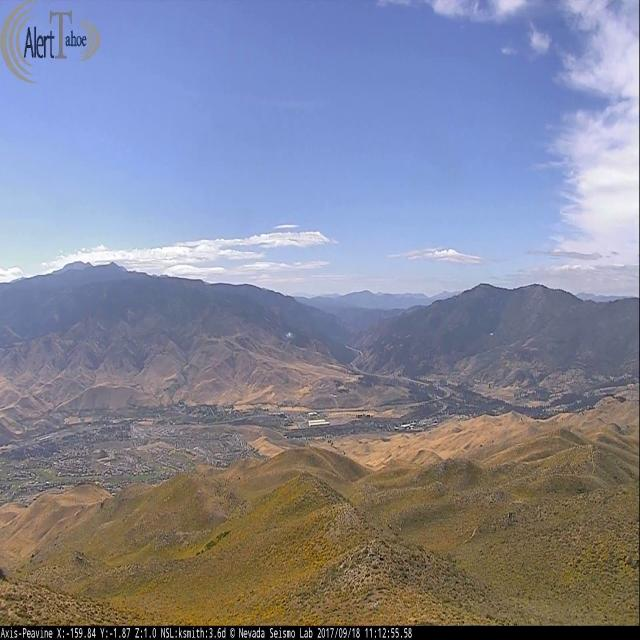smoke: (284, 332, 296, 338)
